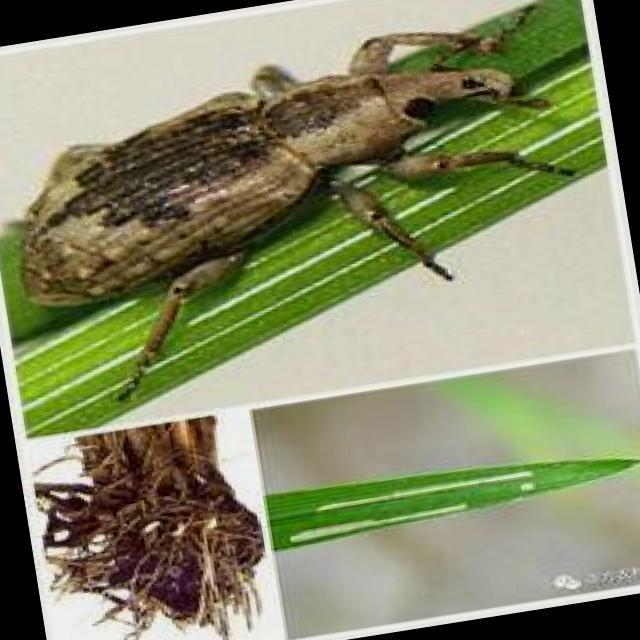ricebug: (21, 32, 568, 396)
